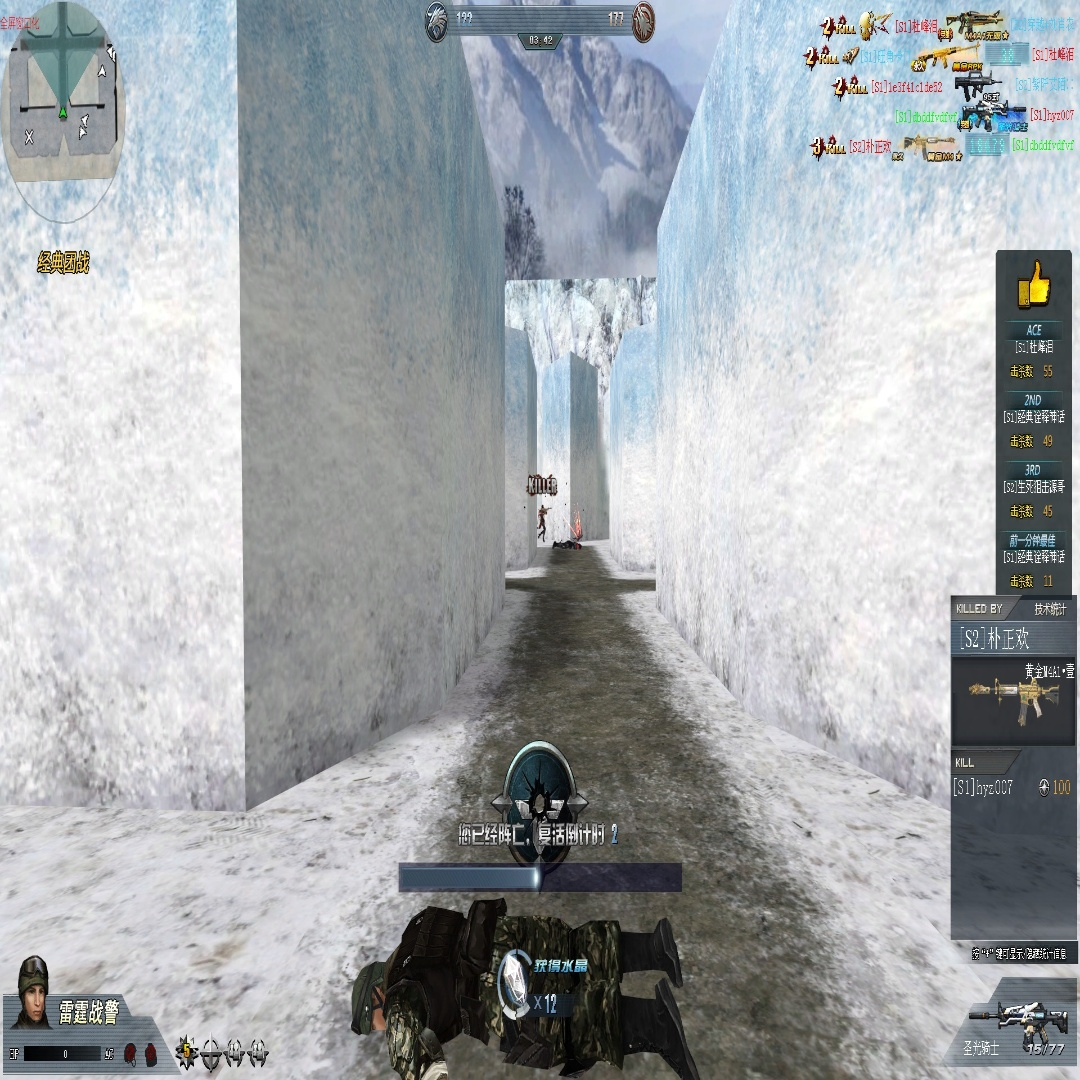t: (539, 505, 547, 542)
